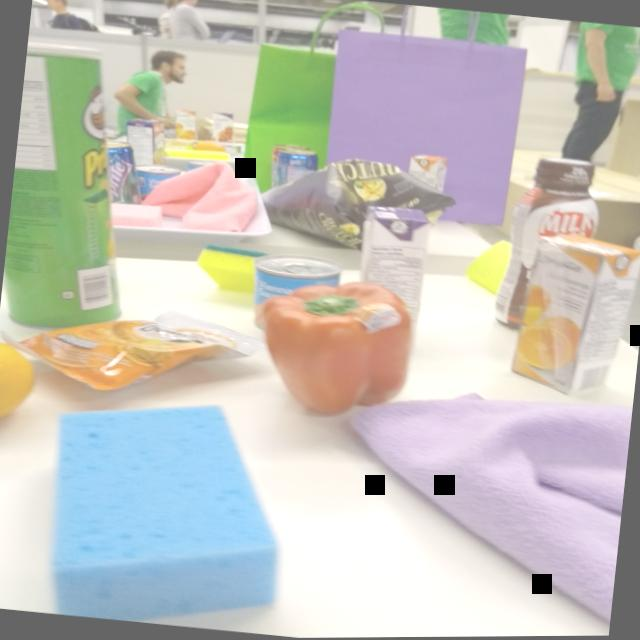chocolate_drink: (495, 148, 596, 334)
crackers: (27, 295, 261, 409)
grape_juice: (352, 202, 441, 316)
orange_juice: (507, 225, 640, 403)
paprika: (260, 275, 422, 425)
potato_chips: (259, 145, 458, 256)
sausages: (251, 251, 340, 300)
scrubby: (190, 239, 271, 294)
sponge_opl: (18, 380, 297, 636)
sprite: (98, 138, 150, 204)
